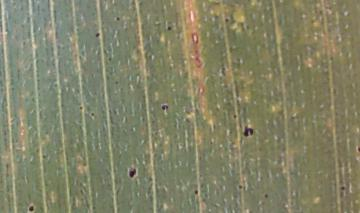tarspot: (242, 124, 255, 137), (127, 167, 137, 178), (40, 153, 48, 161), (236, 184, 244, 191), (161, 104, 169, 111), (28, 205, 34, 213), (114, 79, 120, 87), (94, 32, 101, 38), (166, 25, 172, 32), (223, 17, 229, 24), (89, 111, 95, 118), (106, 55, 112, 62), (232, 113, 237, 121), (339, 185, 345, 191), (77, 105, 83, 111), (115, 15, 120, 22), (263, 193, 269, 198), (193, 189, 198, 195), (356, 146, 360, 151)
